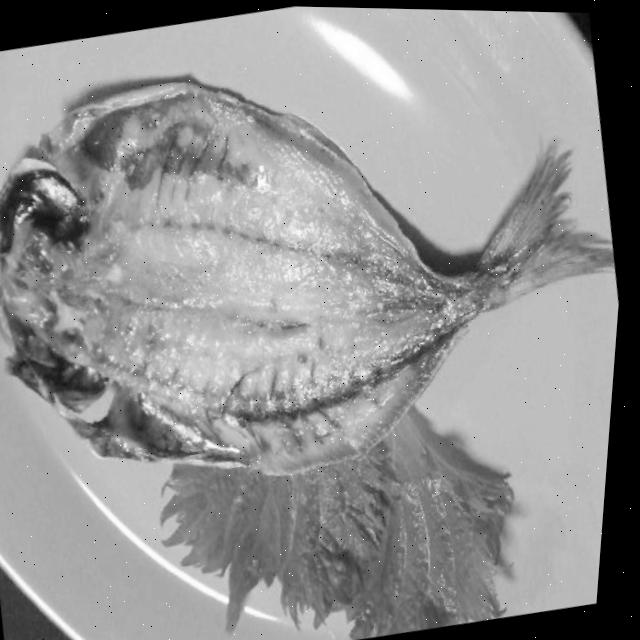熟制海鲜: (0, 0, 640, 542)
